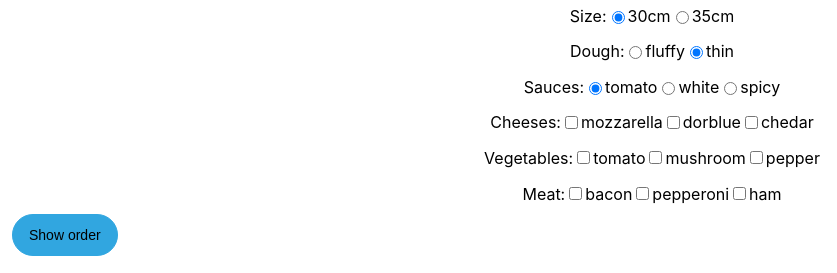
Test: ConstructorPizza › changes value pizza dough
This screenshot has width=837, height=273.
Click the radio button labelled "fluffy". click: (636, 53)
box: [630,46,642,59]
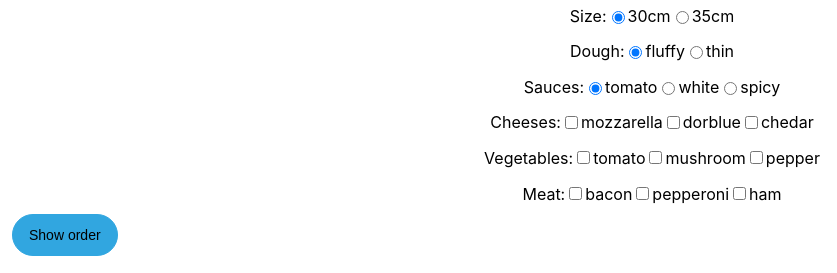
Expected: the radio button labelled "fluffy" is checked, [630,46,642,59]
Expected: the radio button labelled "thin" is not checked, [690,46,703,59]
